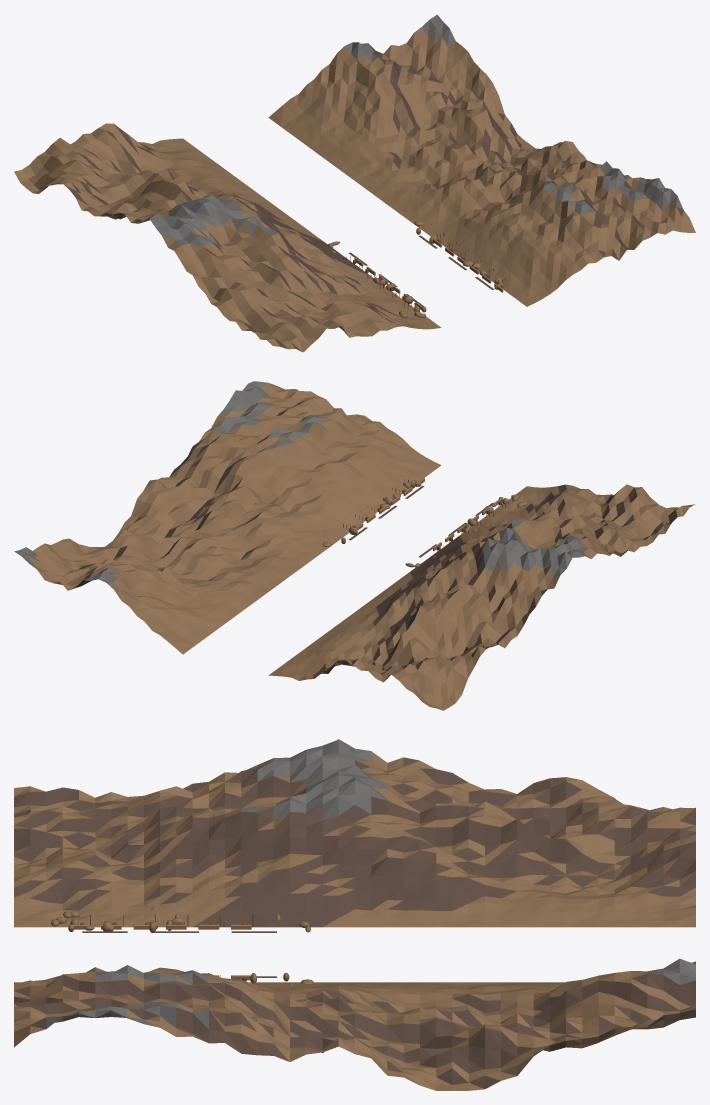
File: region_village_runtime.glb
3 views of the same model, one above another, from view 1: azimuth 30°, elevation 25°; view 2: azimuth 150°, elevation 25°; view 3: azimuth 270°, elevation 25° (orthographic). The views are drawn at different scales.
Parts seen in each view (by area): view 1: Cordillera_-1; view 2: Cordillera_-1; view 3: Cordillera_-1.
Part boxes in pixels (x1,y1,x2,y2): Cordillera_-1: (14,14,695,352); Cordillera_-1: (14,381,694,710); Cordillera_-1: (14,739,695,1090).
Bounding box in the file's own units: 99.2 × 14.99 × 105.
